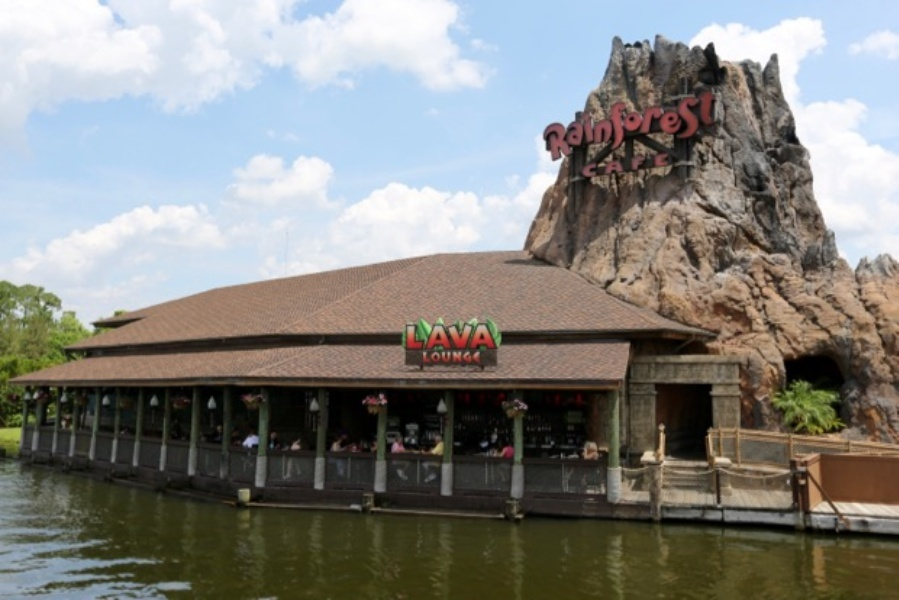text: (545, 89, 560, 163), (561, 89, 576, 163), (577, 89, 592, 163), (593, 89, 608, 163), (609, 89, 624, 163), (625, 89, 640, 163), (641, 89, 656, 163), (657, 89, 672, 163), (673, 89, 688, 163), (689, 89, 704, 163), (705, 89, 717, 163), (593, 150, 608, 179), (609, 150, 624, 179), (625, 150, 640, 179), (641, 150, 656, 179), (417, 324, 432, 351), (433, 324, 448, 351), (449, 324, 464, 351), (465, 324, 480, 351), (481, 324, 496, 351), (657, 150, 670, 179), (405, 324, 416, 351), (582, 150, 592, 179), (433, 351, 448, 366), (449, 351, 464, 366), (465, 351, 480, 366), (422, 351, 432, 366), (543, 89, 544, 163), (497, 324, 499, 351), (481, 351, 482, 366)
